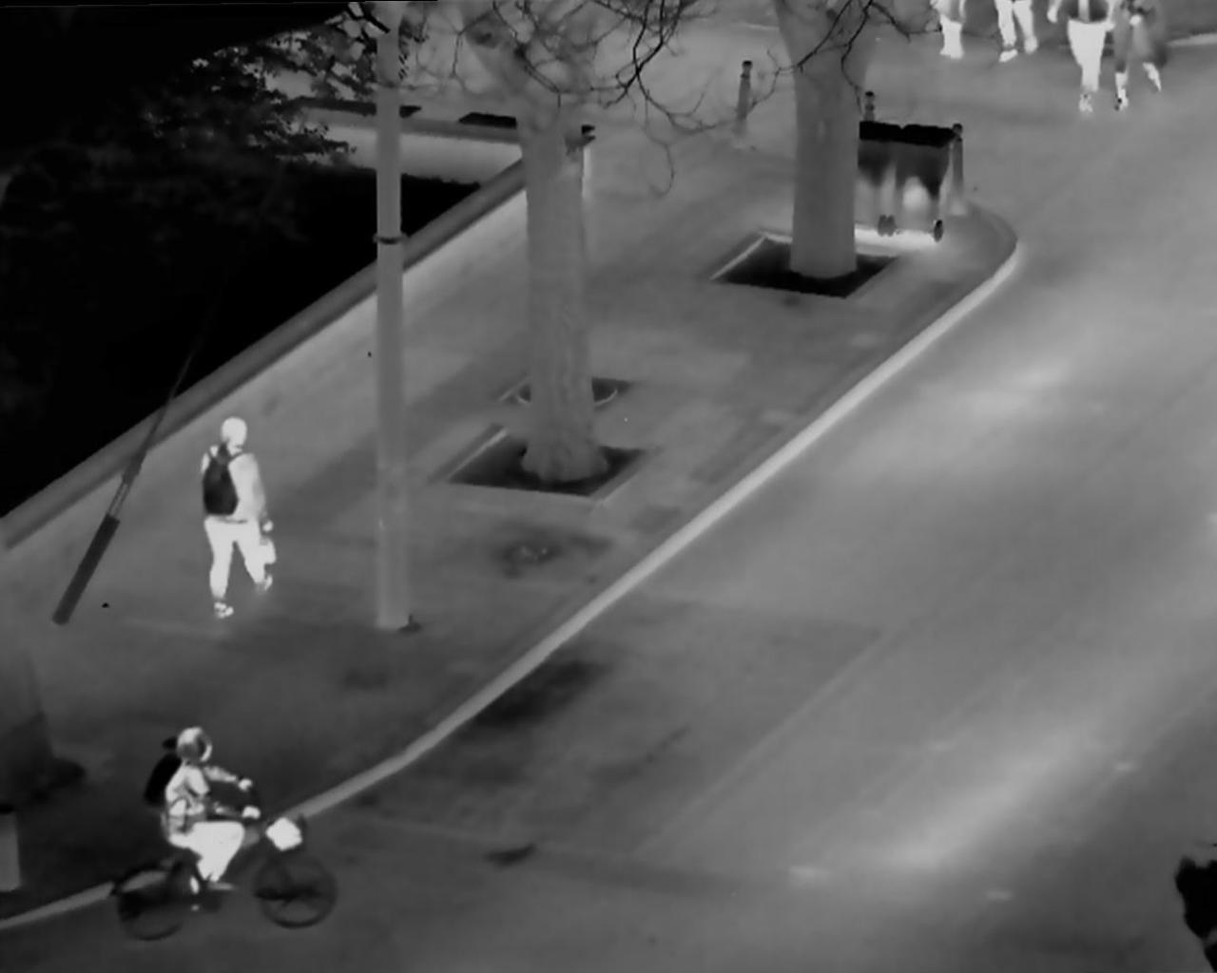person: (127, 718, 294, 911), (187, 403, 289, 629)
